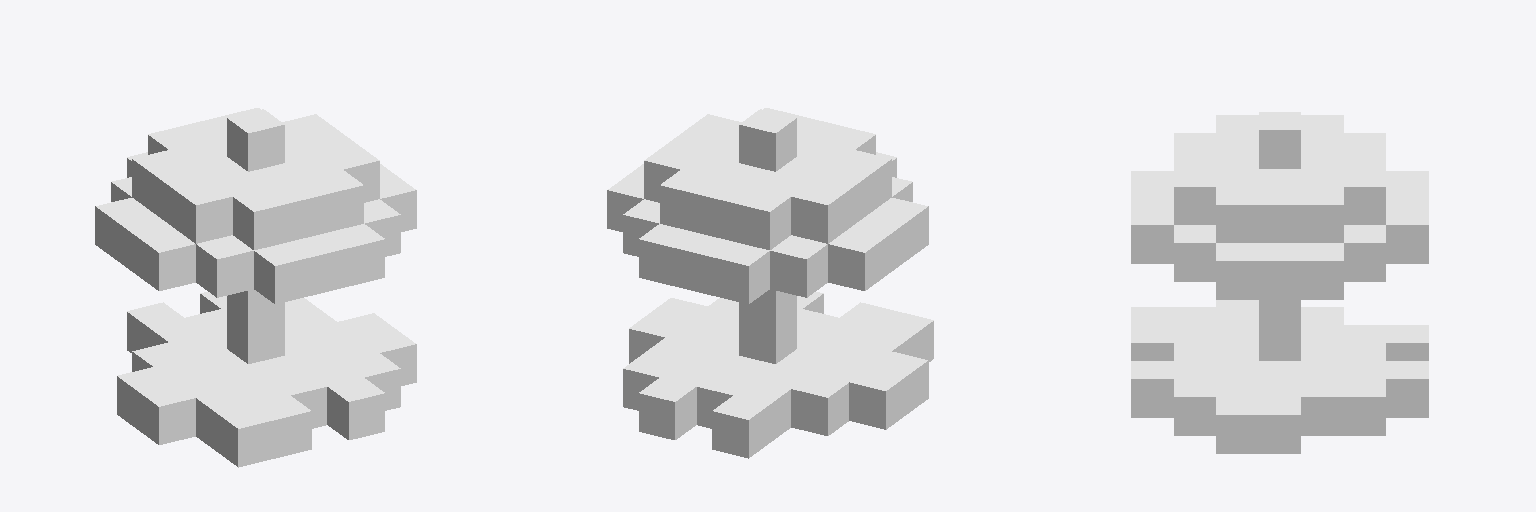
Rendered from grib.obj.
3 views of the same model, side by side, from view 1: azimuth 30°, elevation 25°; view 2: azimuth 150°, elevation 25°; view 3: azimuth 270°, elevation 25° (orthographic).
Parts seen in each view (by area): view 1: object 1; view 2: object 1; view 3: object 1.
Boxes of the visible parts, box(x1,y1,x2,y2) form: object 1: box(95, 108, 416, 467); object 1: box(607, 108, 933, 458); object 1: box(1131, 112, 1428, 453).
Size of the model in its own units: 0.7 by 0.7 by 0.7.